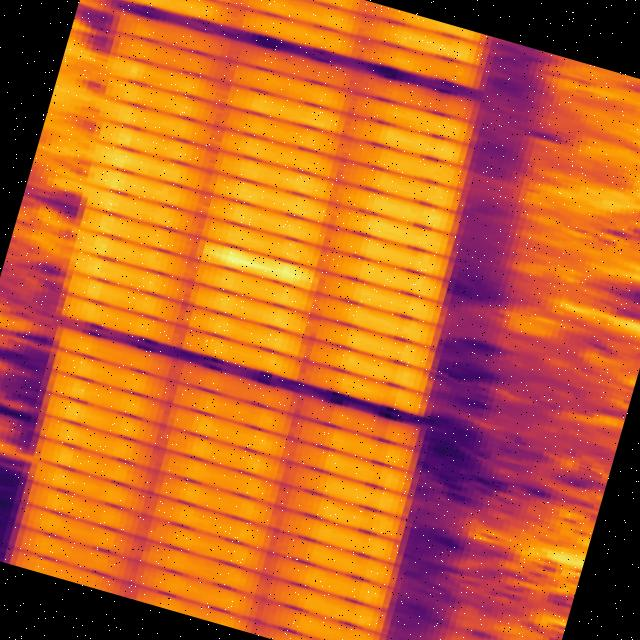Hotspot: (186, 234, 320, 292)
